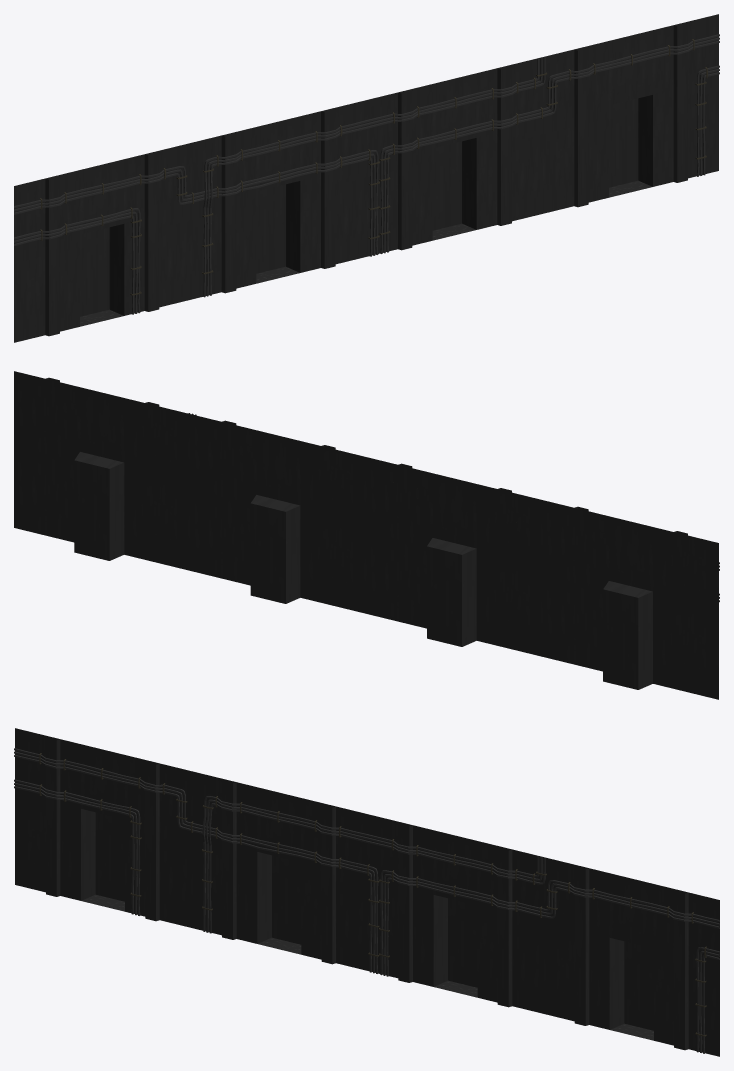
The model's file is SW_ENV_RailTunnelWall_B_02a_20m_FF.fbx.
3 renders of one model, top to bottom at view 1: azimuth 30°, elevation 25°; view 2: azimuth 150°, elevation 25°; view 3: azimuth 330°, elevation 25°, orthographic.
Parts seen in each view (by area): view 1: SW_ENV_RailTunnelWall_B_02a_20m_FF; view 2: SW_ENV_RailTunnelWall_B_02a_20m_FF; view 3: SW_ENV_RailTunnelWall_B_02a_20m_FF.
Part boxes in pixels (bbox=[...]): SW_ENV_RailTunnelWall_B_02a_20m_FF: bbox=[14, 14, 719, 342]; SW_ENV_RailTunnelWall_B_02a_20m_FF: bbox=[14, 371, 719, 699]; SW_ENV_RailTunnelWall_B_02a_20m_FF: bbox=[14, 728, 719, 1056].
Size of the model in its own units: 2000 by 425 by 64.88.
